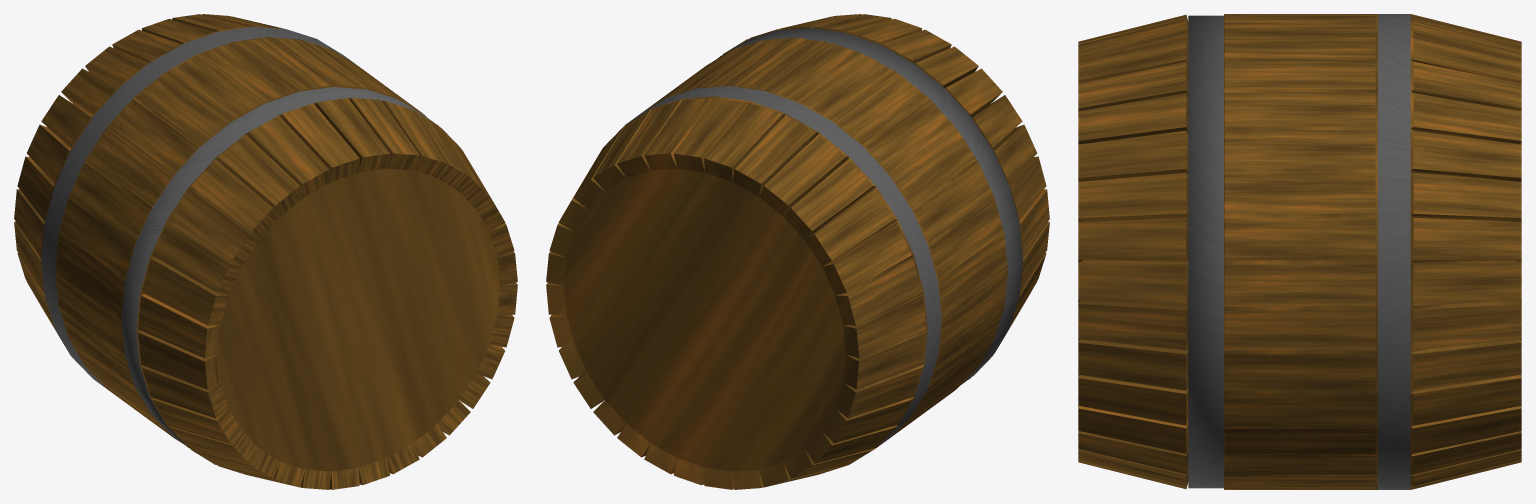
Rendered from barrel.fbx.
3 renders of one model, left to right at view 1: azimuth 30°, elevation 25°; view 2: azimuth 150°, elevation 25°; view 3: azimuth 270°, elevation 25°, orthographic. The views are drawn at different scales.
Parts seen in each view (by area): view 1: Cylinder; view 2: Cylinder; view 3: Cylinder.
Part boxes in pixels (x1=…): Cylinder: x1=14, y1=14, x2=517, y2=489; Cylinder: x1=546, y1=14, x2=1049, y2=489; Cylinder: x1=1078, y1=14, x2=1521, y2=489.
Size of the model in its own units: 220 by 220 by 205.
